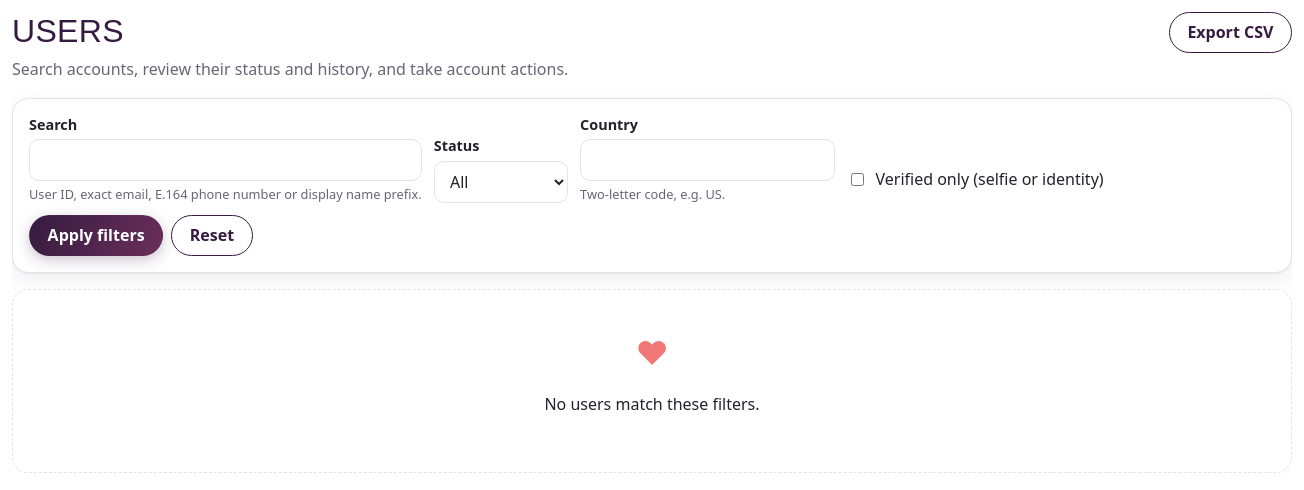
Test: UsersSearchPage › exports the current filters as CSV
Check: the text "No users match these filters." is shown, box [544,393,760,415]
Click the button "Export CSV" at {"x": 1230, "y": 33}, box [1169,12,1292,53]
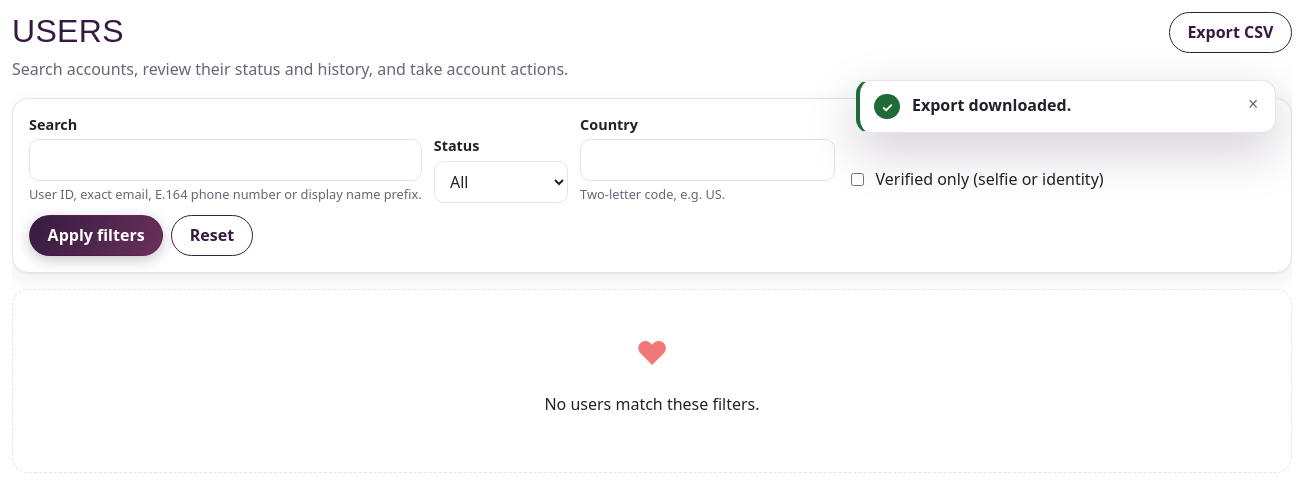
Check: the text "Export downloaded." is shown, box [912,94,1071,116]
